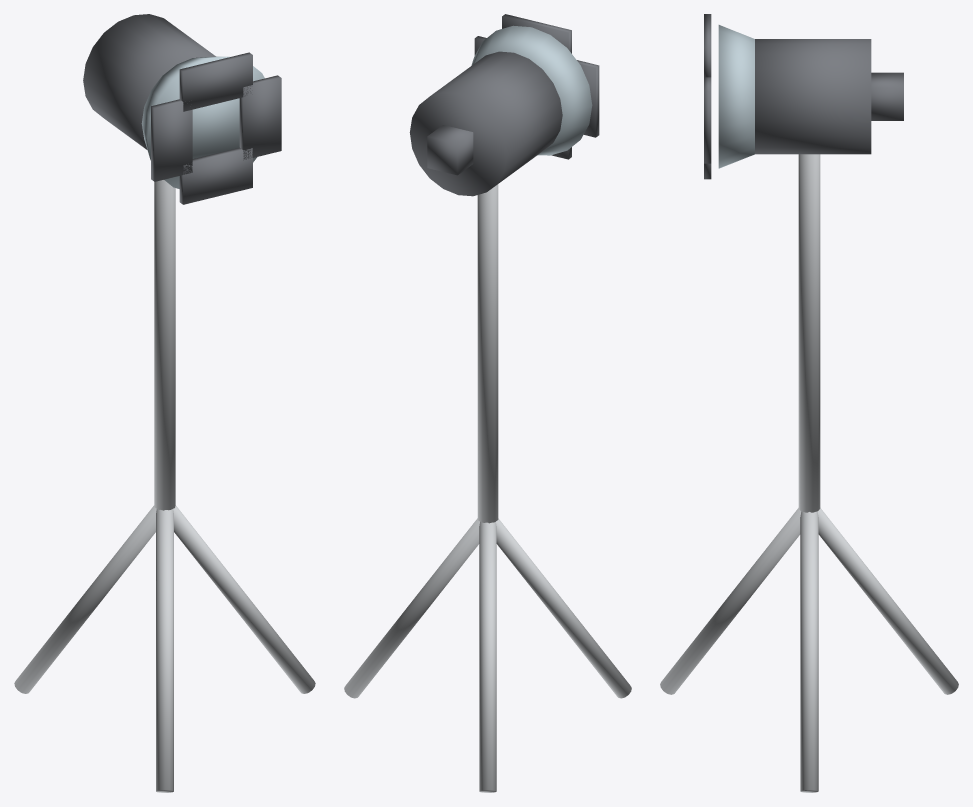
File: Prop_Fresnel.glb
3 views of the same model, side by side, from view 1: azimuth 30°, elevation 25°; view 2: azimuth 150°, elevation 25°; view 3: azimuth 270°, elevation 25° (orthographic). The views are drawn at different scales.
Parts seen in each view (by area): view 1: Prop_Fresnel_LOD0; view 2: Prop_Fresnel_LOD0; view 3: Prop_Fresnel_LOD0.
Boxes of the visible parts, box(x1,y1,x2,y2) form: Prop_Fresnel_LOD0: box(14, 14, 315, 792); Prop_Fresnel_LOD0: box(344, 14, 631, 792); Prop_Fresnel_LOD0: box(660, 14, 958, 792).
Bounding box in the file's own units: 0.7194 × 2.11 × 0.8228.
